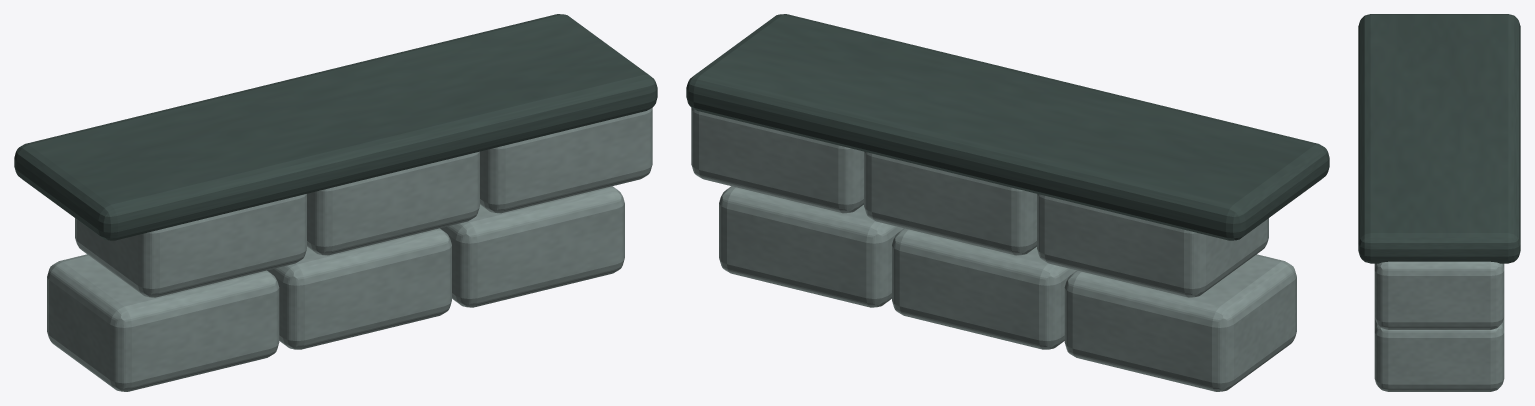
File: SM_bank_segment.fbx
3 views of the same model, side by side, from view 1: azimuth 30°, elevation 25°; view 2: azimuth 150°, elevation 25°; view 3: azimuth 270°, elevation 25° (orthographic). The views are drawn at different scales.
Visible parts, largest first — view 1: SM_bank_segment; view 2: SM_bank_segment; view 3: SM_bank_segment.
Boxes of the visible parts, x1=… form: SM_bank_segment: x1=14, y1=14, x2=657, y2=391; SM_bank_segment: x1=686, y1=14, x2=1329, y2=391; SM_bank_segment: x1=1358, y1=14, x2=1520, y2=391.
Bounding box in the file's own units: 2.02 × 0.6 × 0.685.
